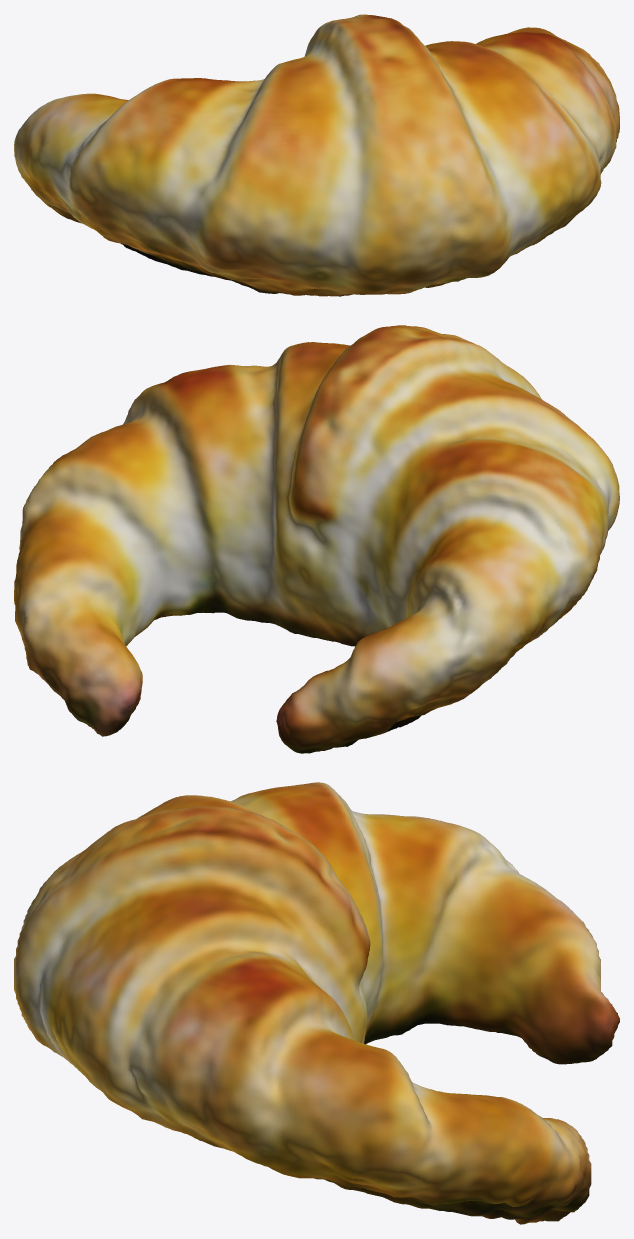
File: croissant_1step.glb
3 renders of one model, top to bottom at view 1: azimuth 30°, elevation 25°; view 2: azimuth 150°, elevation 25°; view 3: azimuth 270°, elevation 25°, orthographic. The views are drawn at different scales.
Visible parts, largest first — view 1: world; view 2: world; view 3: world.
Part boxes in pixels (x1,y1,x2,y2): world: (14, 14, 619, 296); world: (14, 325, 619, 753); world: (14, 782, 619, 1224).
Bounding box in the file's own units: 1.34 × 0.75 × 1.24.
